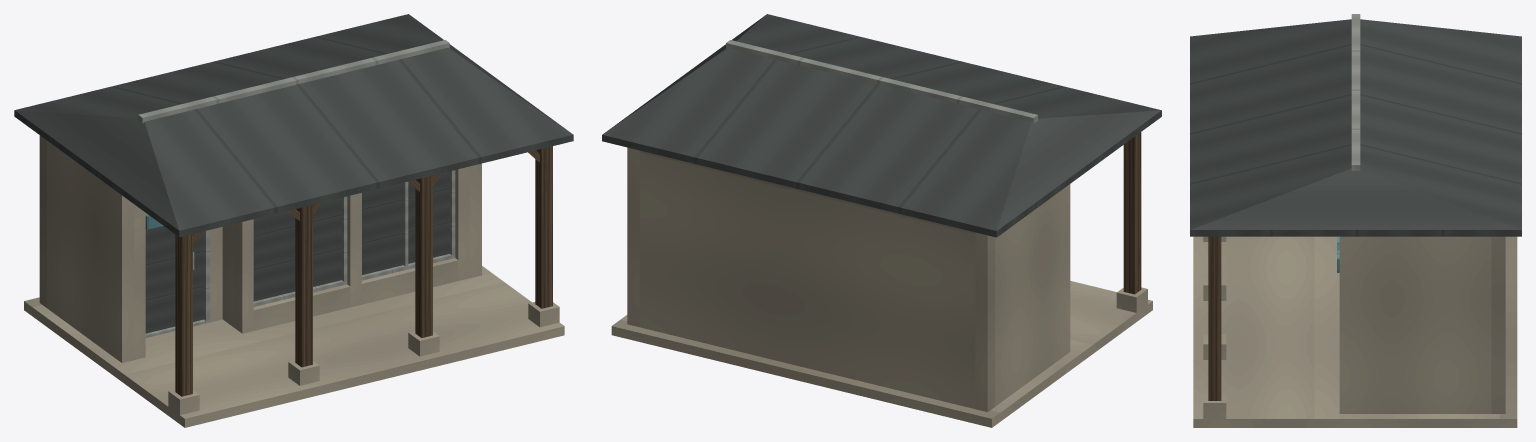
The picture shows the model from 3 angles, left to right: view 1: azimuth 30°, elevation 25°; view 2: azimuth 150°, elevation 25°; view 3: azimuth 270°, elevation 25°; orthographic projection.
Parts seen in each view (by area): view 1: san-juan; view 2: san-juan; view 3: san-juan.
Part boxes in pixels (x1,y1,x2,y2): san-juan: [14, 14, 573, 427]; san-juan: [602, 14, 1161, 427]; san-juan: [1190, 14, 1521, 427].
Size of the model in its own units: 6.27 by 3.7 by 4.54.
1 material, 1 textured.
